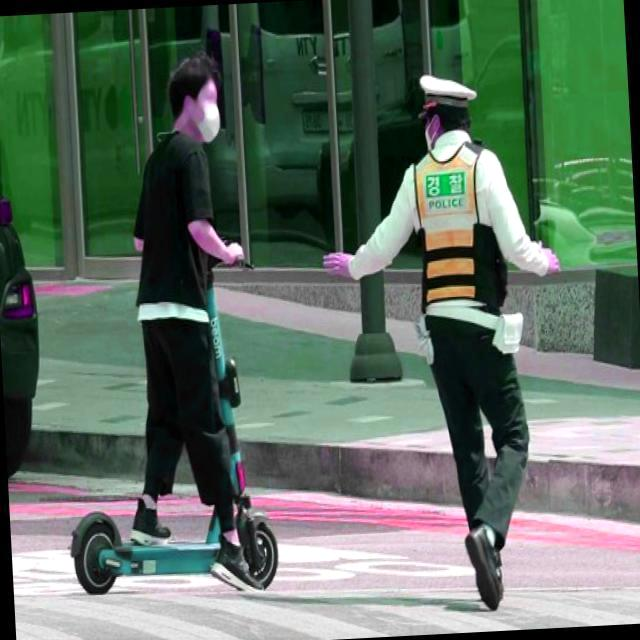bare_head: (156, 63, 253, 153)
human: (123, 53, 255, 538)
kickboard: (66, 494, 297, 594)
